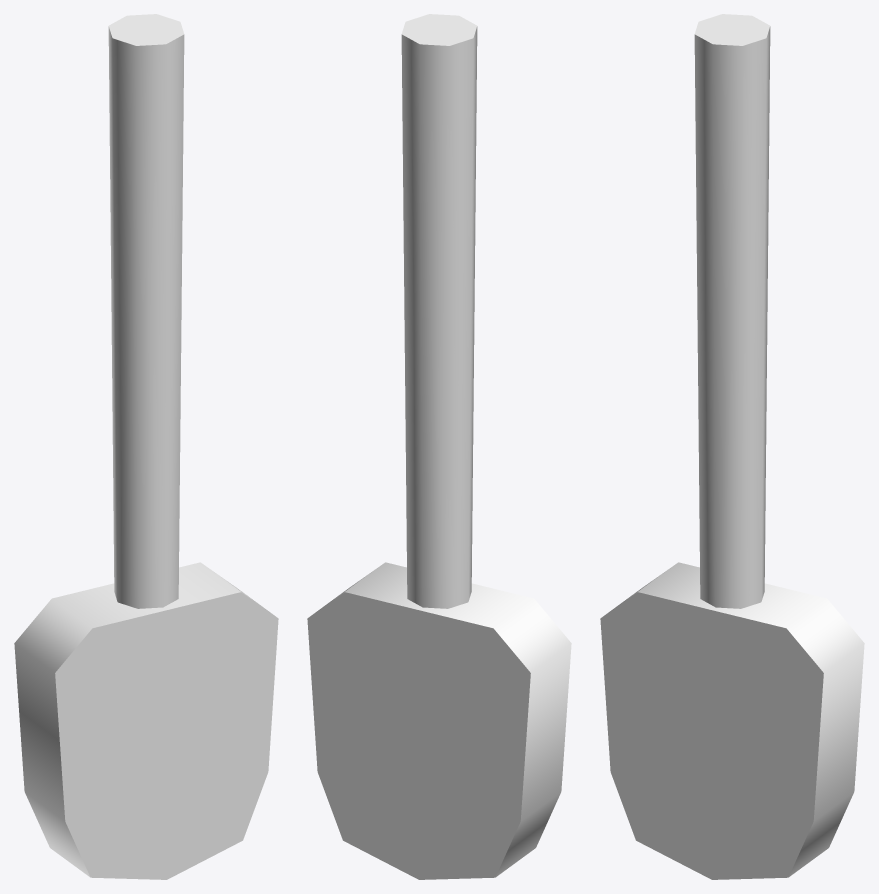
The model's file is tool-paddle.glb.
The picture shows the model from 3 angles, left to right: view 1: azimuth 30°, elevation 25°; view 2: azimuth 150°, elevation 25°; view 3: azimuth 330°, elevation 25°; orthographic projection.
Parts seen in each view (by area): view 1: tool-paddle; view 2: tool-paddle; view 3: tool-paddle.
Boxes of the visible parts, x1=… form: tool-paddle: x1=14, y1=14, x2=278, y2=879; tool-paddle: x1=307, y1=14, x2=571, y2=879; tool-paddle: x1=600, y1=14, x2=864, y2=879.
Bounding box in the file's own units: 0.6579 × 2.35 × 0.2076.
Materials: 1 (1 with a texture image).
